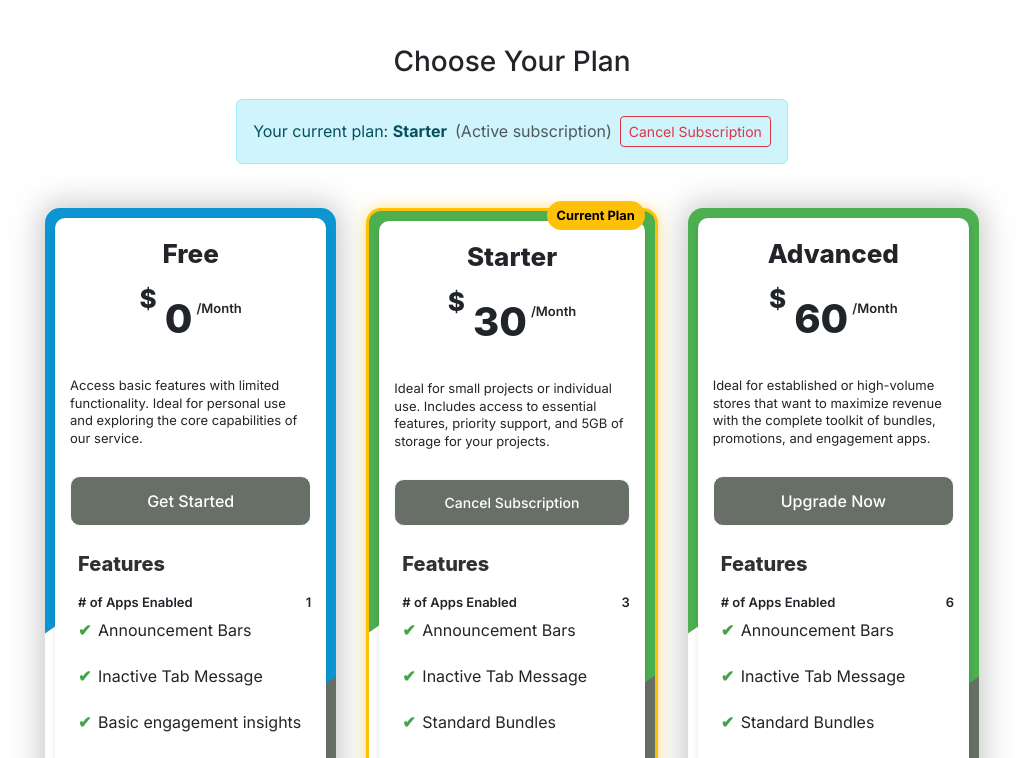
Plan page - billing/subscription flow › switching between two paid plans (Starter -> Advanced) sends the correct plan name and shows the result modal
Expected: the text "Your current plan: Starter(Active subscription)" is shown, [253,119,612,143]
Click the button "Upgrade Now" at (833, 501), box [713,476,954,526]
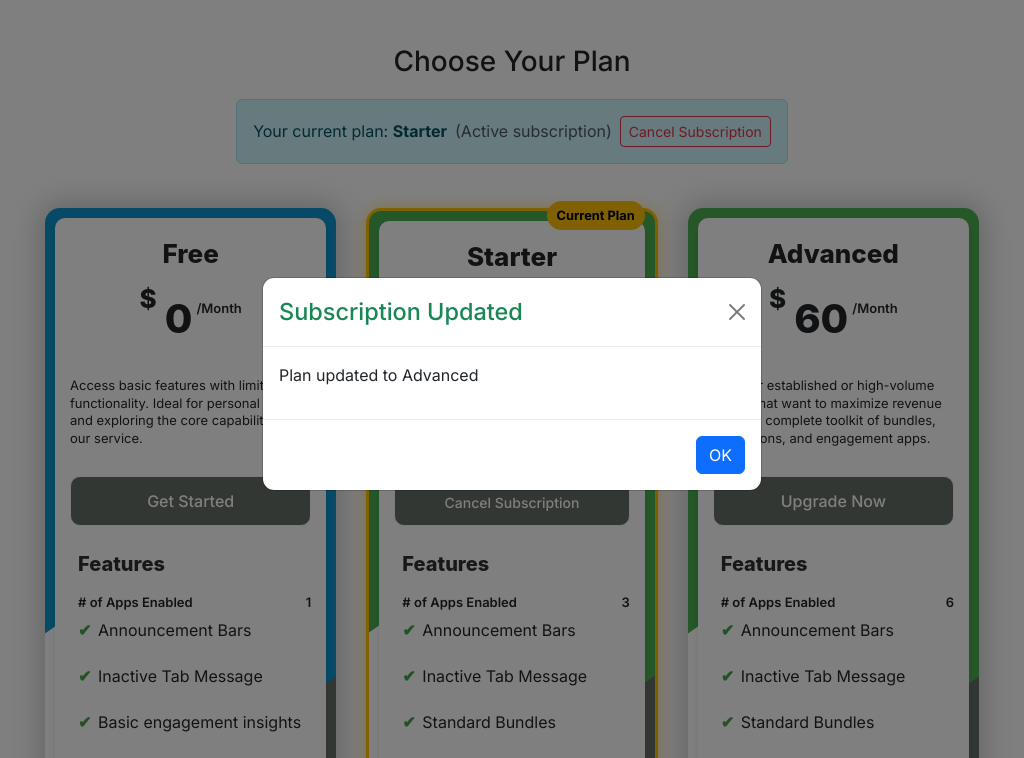
Now the text "Subscription Updated" is shown, box [279,294,523,330]
Now the text "Plan updated to Advanced" is shown, box [279,365,478,385]
